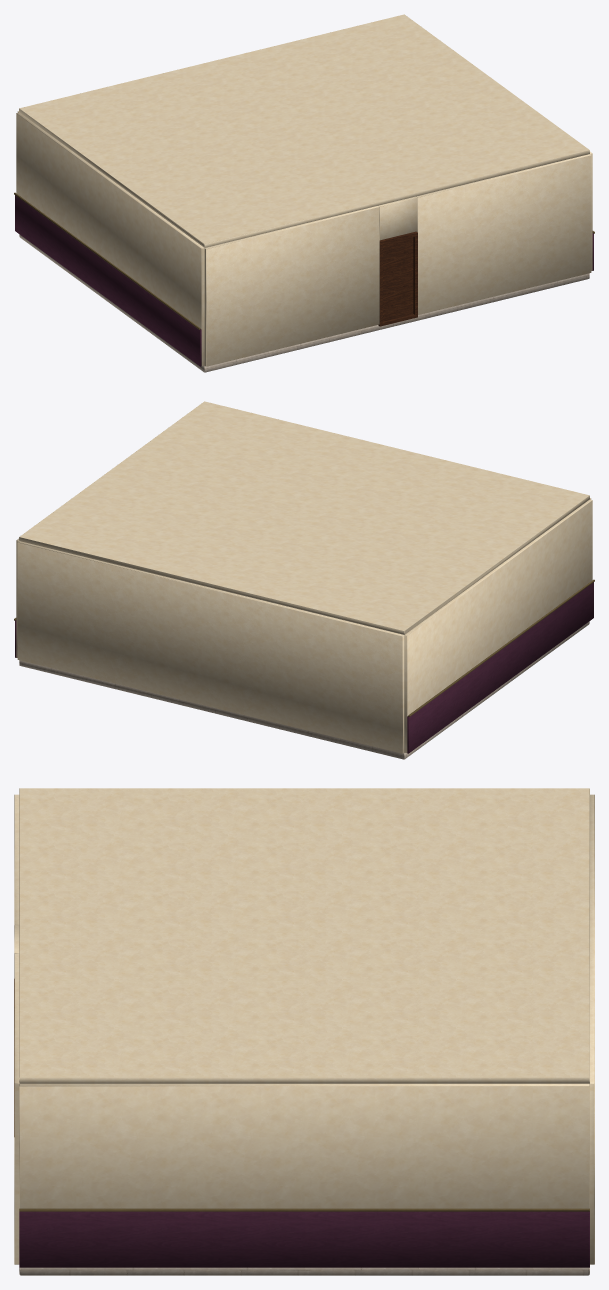
File: explore3d__operating_archive.glb
The picture shows the model from 3 angles, top to bottom: view 1: azimuth 30°, elevation 25°; view 2: azimuth 150°, elevation 25°; view 3: azimuth 270°, elevation 25°; orthographic projection. The views are drawn at different scales.
Parts seen in each view (by area): view 1: Rebuilt_operating_archive; view 2: Rebuilt_operating_archive; view 3: Rebuilt_operating_archive.
Boxes of the visible parts, x1=… form: Rebuilt_operating_archive: x1=14, y1=14, x2=594, y2=372; Rebuilt_operating_archive: x1=14, y1=401, x2=594, y2=759; Rebuilt_operating_archive: x1=14, y1=788, x2=594, y2=1275.
Bounding box in the file's own units: 12.32 × 3.84 × 10.19.
Materials: 15 (13 with a texture image).
